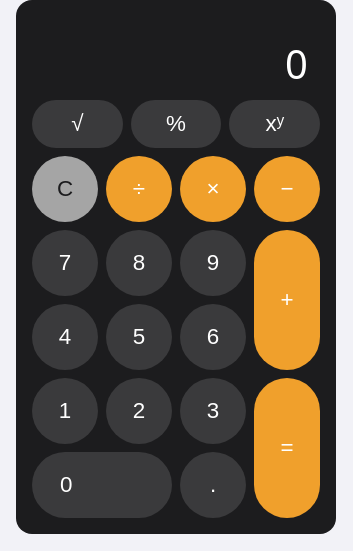
it: Calculator › converts the displayed value with the percent key
Click the button "5" at x=139, y=337, box [106,304,172,370]
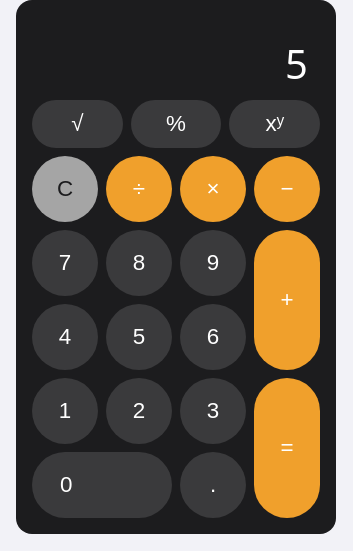
Click the button "0" at x=102, y=485, box [32,452,172,518]
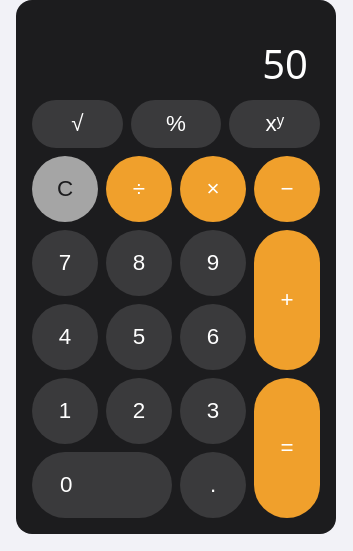
Click the button "%" at x=176, y=124, box [131,100,221,148]
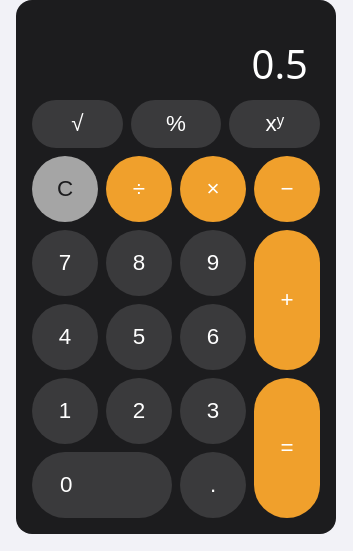
Check: the text with test id "display" reads "0.5", box [252,36,308,91]
